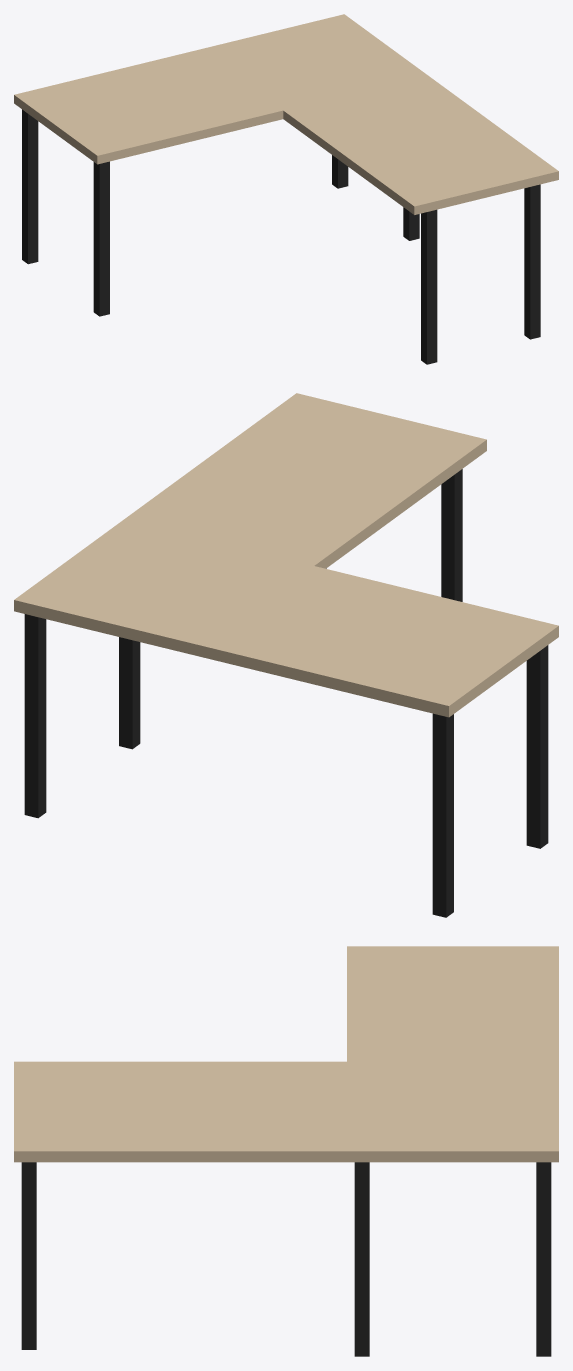
File: desk_l.glb
3 renders of one model, top to bottom at view 1: azimuth 30°, elevation 25°; view 2: azimuth 150°, elevation 25°; view 3: azimuth 270°, elevation 25°, orthographic. The views are drawn at different scales.
Visible parts, largest first — view 1: desk_l; view 2: desk_l; view 3: desk_l.
Part boxes in pixels (x1,y1,x2,y2): desk_l: [14, 14, 558, 364]; desk_l: [14, 393, 558, 917]; desk_l: [14, 946, 558, 1356].
Size of the model in its own units: 1.6 by 0.76 by 1.8.
